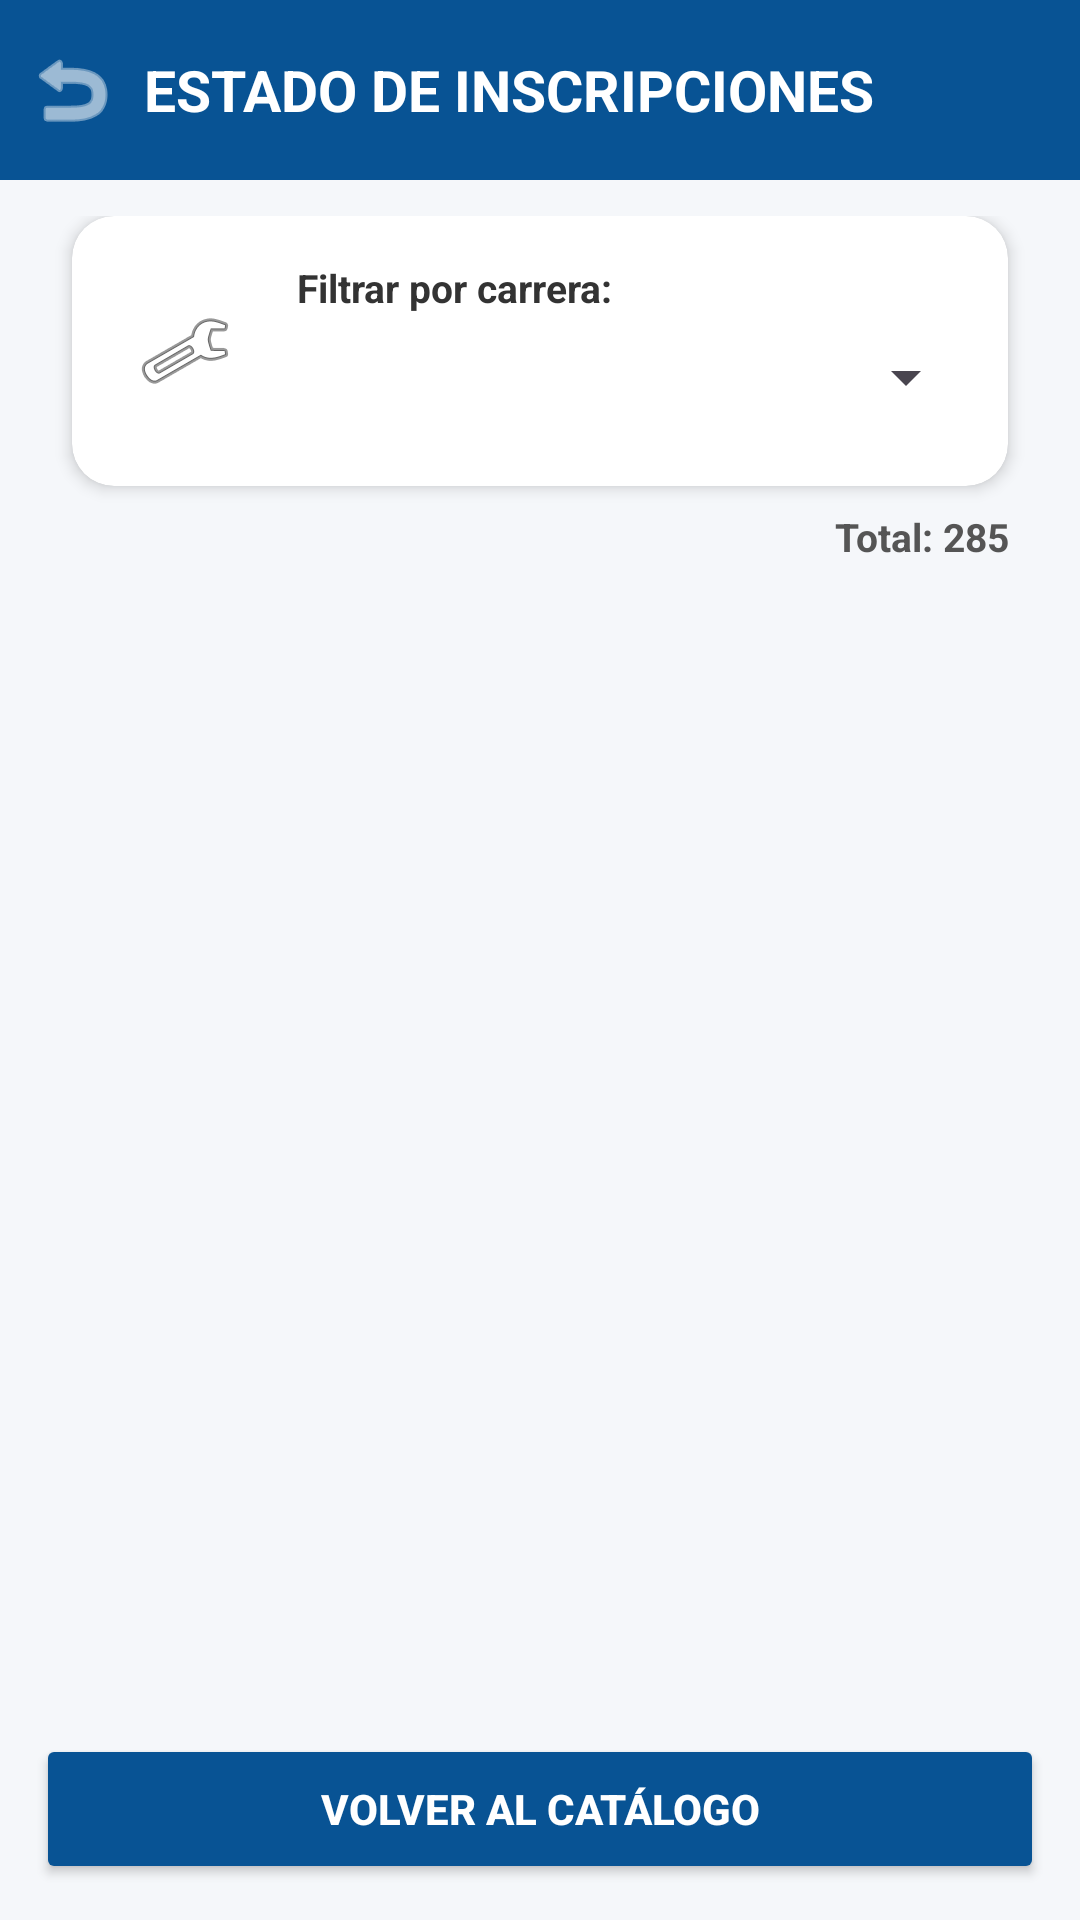

Icons on this 1080px x 1920px Android screen, each with its box as bbox=[x1, y1, x2, y2]:
Regresar: bbox=[39, 59, 108, 122]
